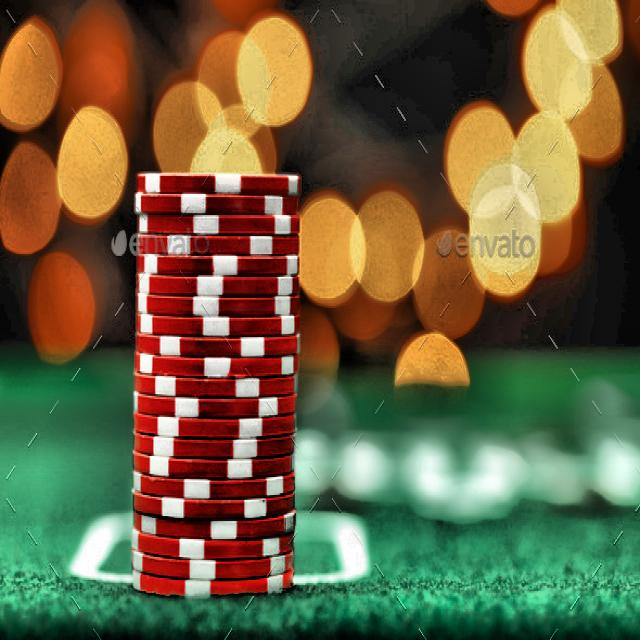Chip: (123, 159, 305, 604)
